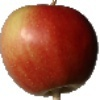apple: (1, 3, 98, 100)
